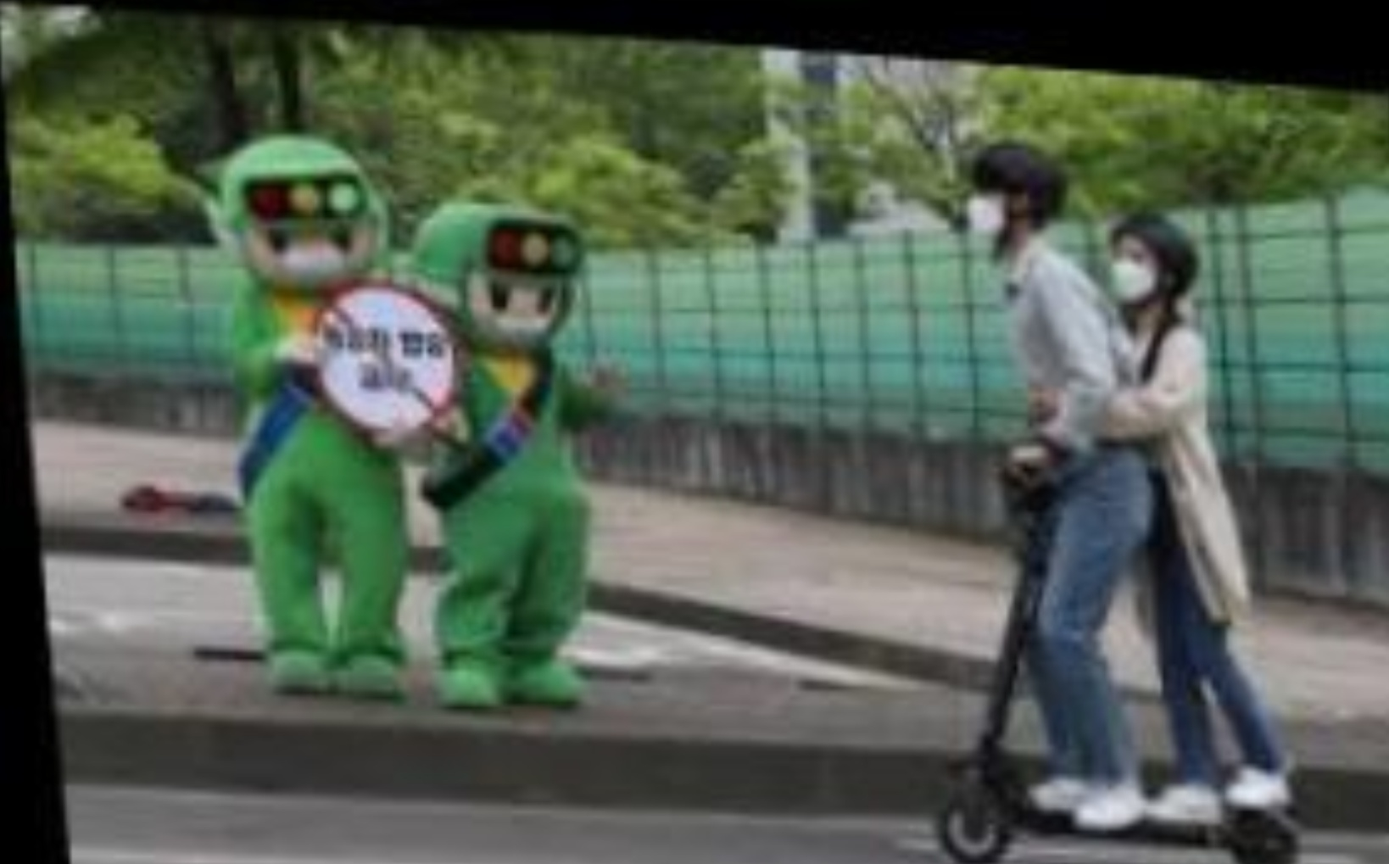helmet: (934, 132, 1065, 243), (1097, 204, 1200, 315)
human: (955, 130, 1143, 832), (1092, 193, 1292, 816)
kickboard: (924, 747, 1308, 864)
